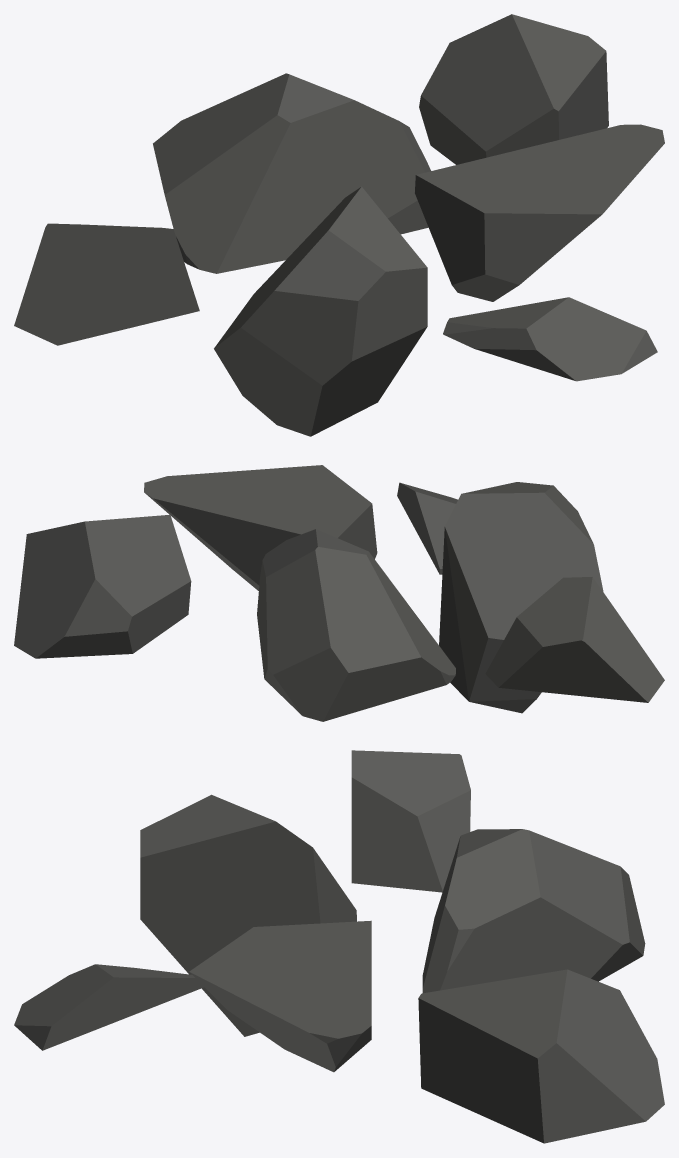
The model's file is SM_Envr_Nature_Rock_Rubble_04.fbx.
The picture shows the model from 3 angles, top to bottom: view 1: azimuth 30°, elevation 25°; view 2: azimuth 150°, elevation 25°; view 3: azimuth 270°, elevation 25°; orthographic projection. The views are drawn at different scales.
Parts seen in each view (by area): view 1: SM_Envr_Nature_Rock_Rubble_04; view 2: SM_Envr_Nature_Rock_Rubble_04; view 3: SM_Envr_Nature_Rock_Rubble_04.
Boxes of the visible parts, x1,y1,x2,y2 form: SM_Envr_Nature_Rock_Rubble_04: (14, 14, 664, 436); SM_Envr_Nature_Rock_Rubble_04: (14, 465, 664, 721); SM_Envr_Nature_Rock_Rubble_04: (14, 750, 664, 1143).
Bounding box in the file's own units: 495 × 174 × 407.
